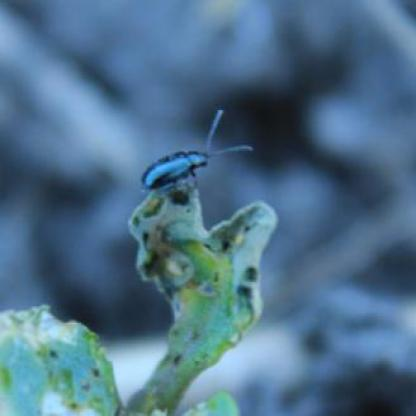beetle: (140, 124, 252, 184)
